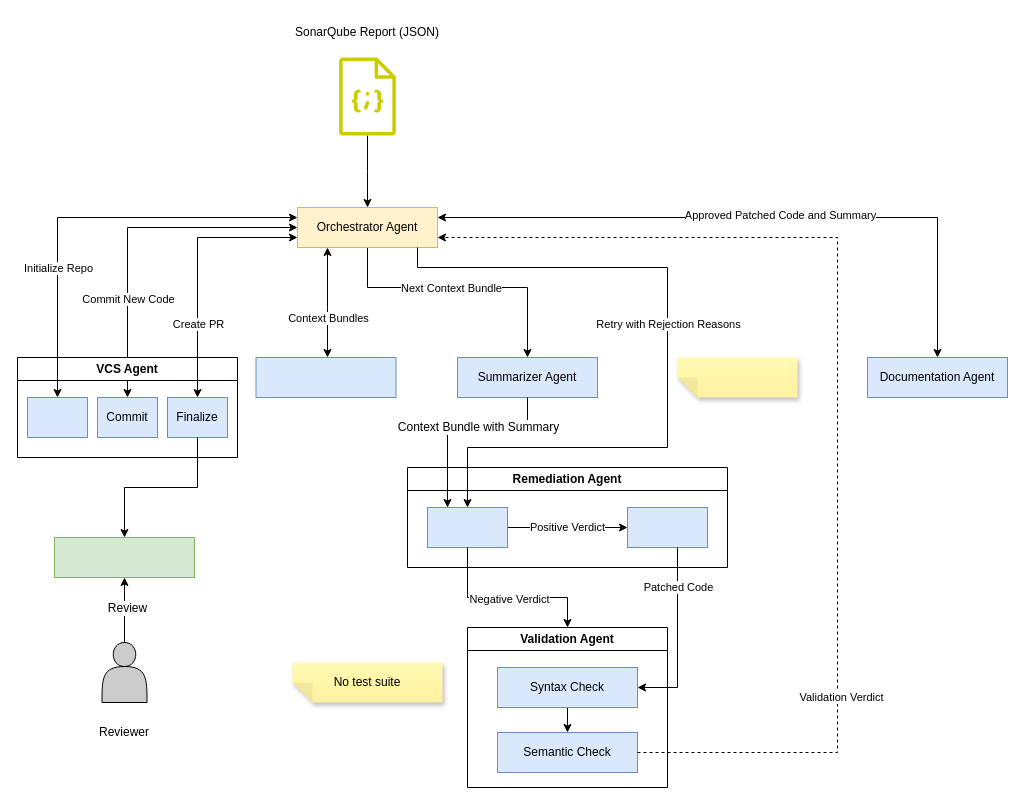
Some shapes in this 1025 by 805 pixel diagram are drawn without their labels. The centre of each missing label's shape, as x and y in pixels:
Context Agent: the point at 325,377
Feature Branch + Pull Request: the point at 124,557
Max 3 retries: the point at 738,378
Remediation: the point at 667,527
Setup: the point at 57,417
Triage: the point at 467,527
